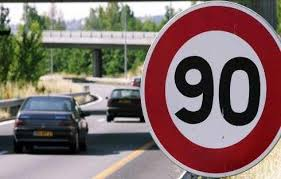Speed_limit_90km: (139, 3, 281, 177)
car: (13, 93, 92, 157)
